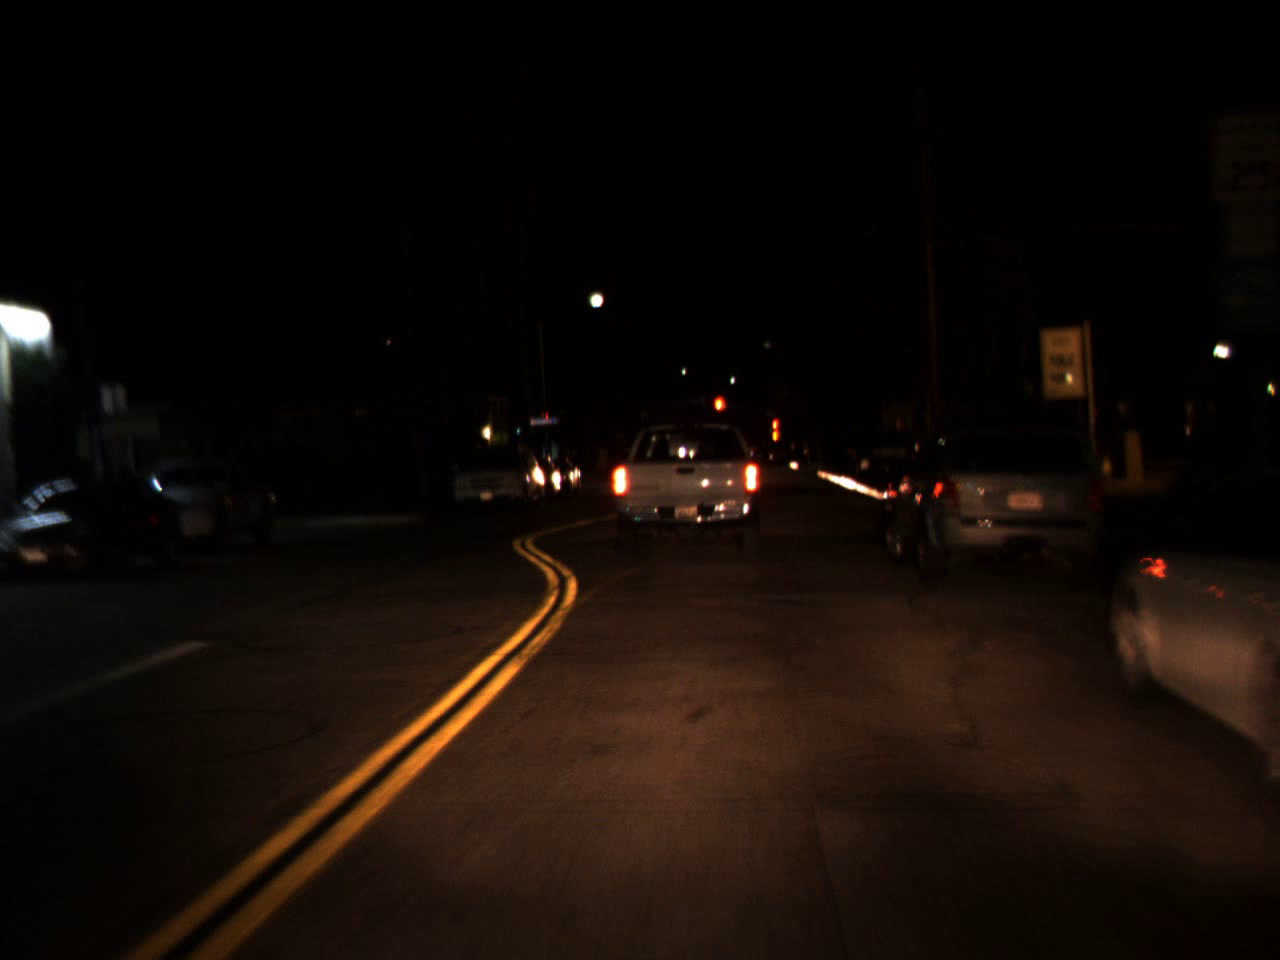stop: (712, 395, 725, 427), (769, 416, 781, 443)
